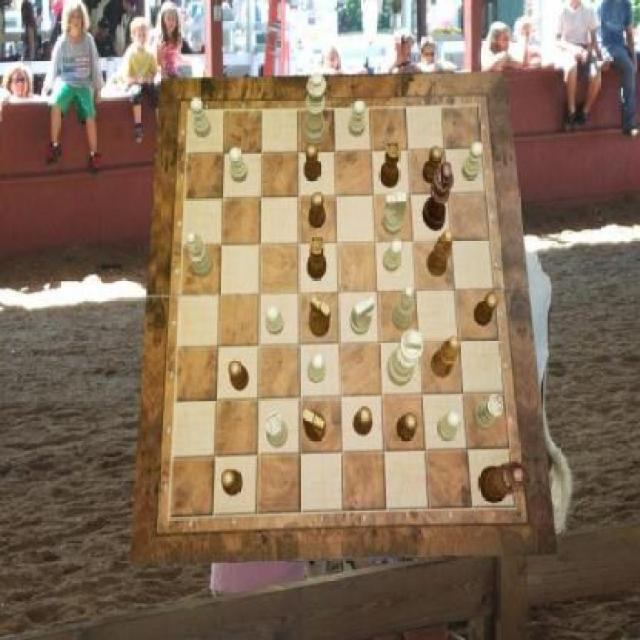bishop: (428, 231, 454, 277), (431, 337, 460, 378)
black-bishop: (421, 163, 454, 231)
black-king: (309, 295, 332, 338), (303, 409, 326, 443)
black-knight: (474, 292, 498, 327), (423, 146, 443, 184), (304, 143, 322, 181), (229, 360, 249, 392), (395, 414, 418, 441), (308, 192, 325, 228), (354, 408, 374, 437), (222, 470, 242, 496)
black-pawn: (478, 461, 528, 504)
black-queen: (380, 142, 401, 188), (308, 236, 328, 280)
black-rook: (188, 232, 215, 278), (392, 285, 416, 330)
white-bishop: (388, 329, 424, 387)
white-king: (383, 192, 407, 236), (351, 297, 375, 335)
white-knight: (191, 97, 211, 138), (462, 143, 482, 182), (437, 411, 460, 442), (264, 304, 284, 336), (383, 240, 403, 272), (349, 99, 366, 136), (230, 148, 248, 182), (308, 352, 325, 383)
white-pawn: (302, 74, 326, 146)
white-queen: (472, 396, 503, 432), (264, 412, 288, 448)
